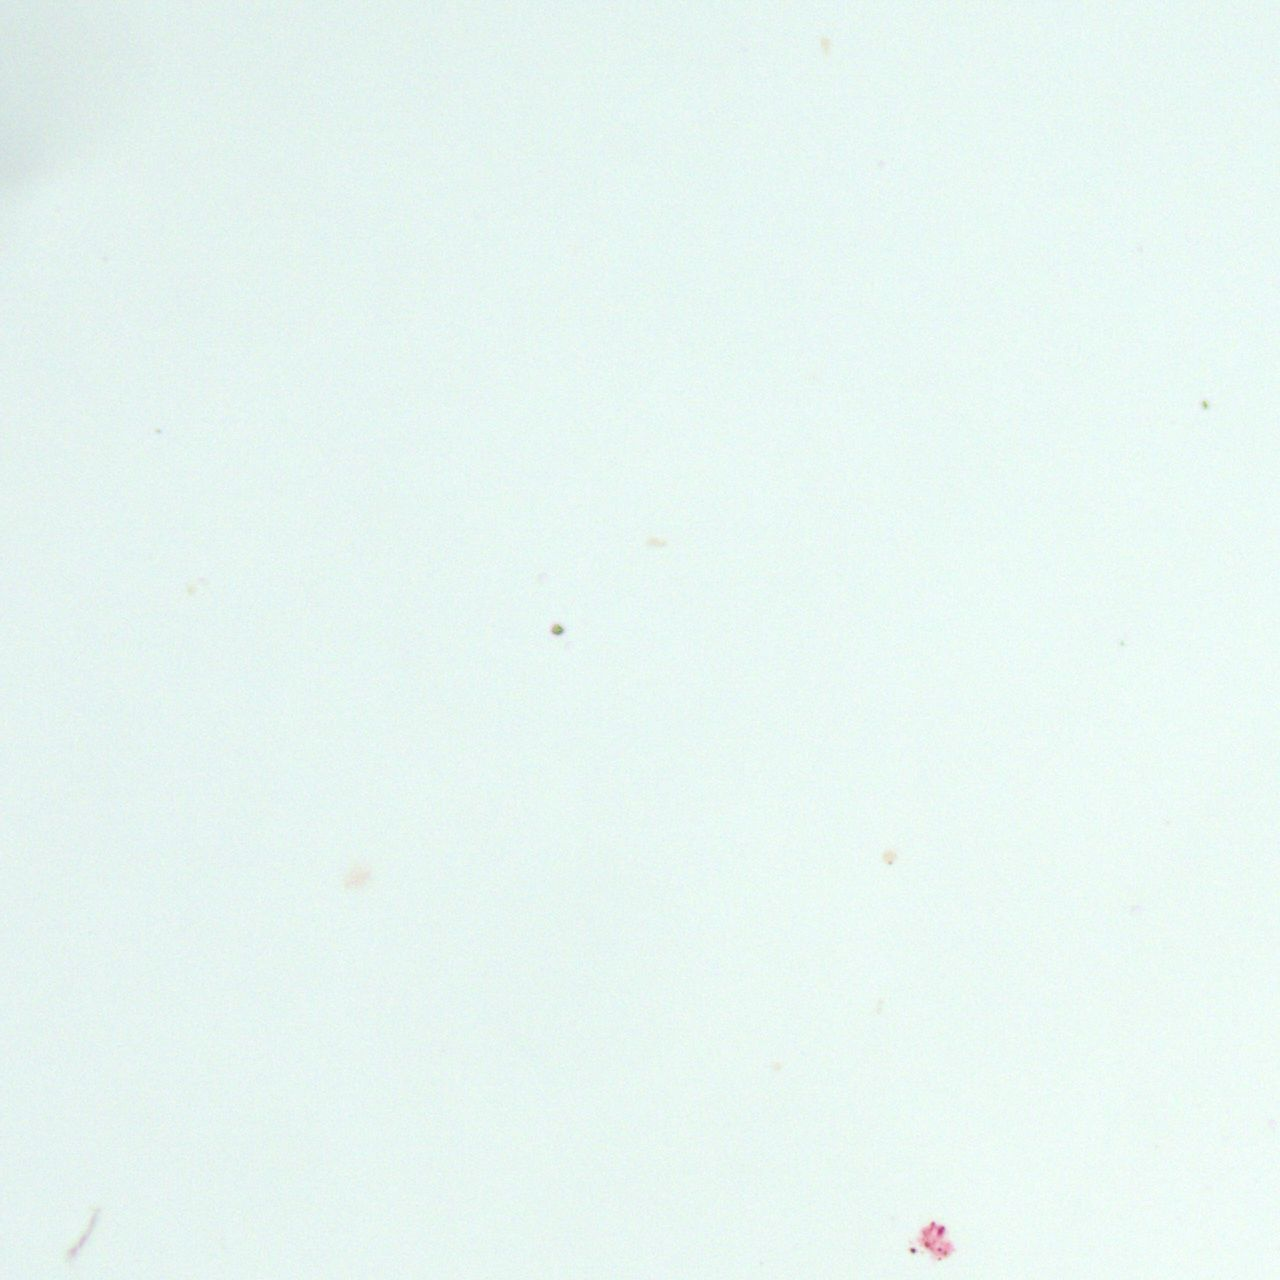dust: (884, 851, 896, 869), (549, 622, 564, 634), (908, 1244, 918, 1254), (1201, 400, 1208, 409), (154, 427, 159, 435)
